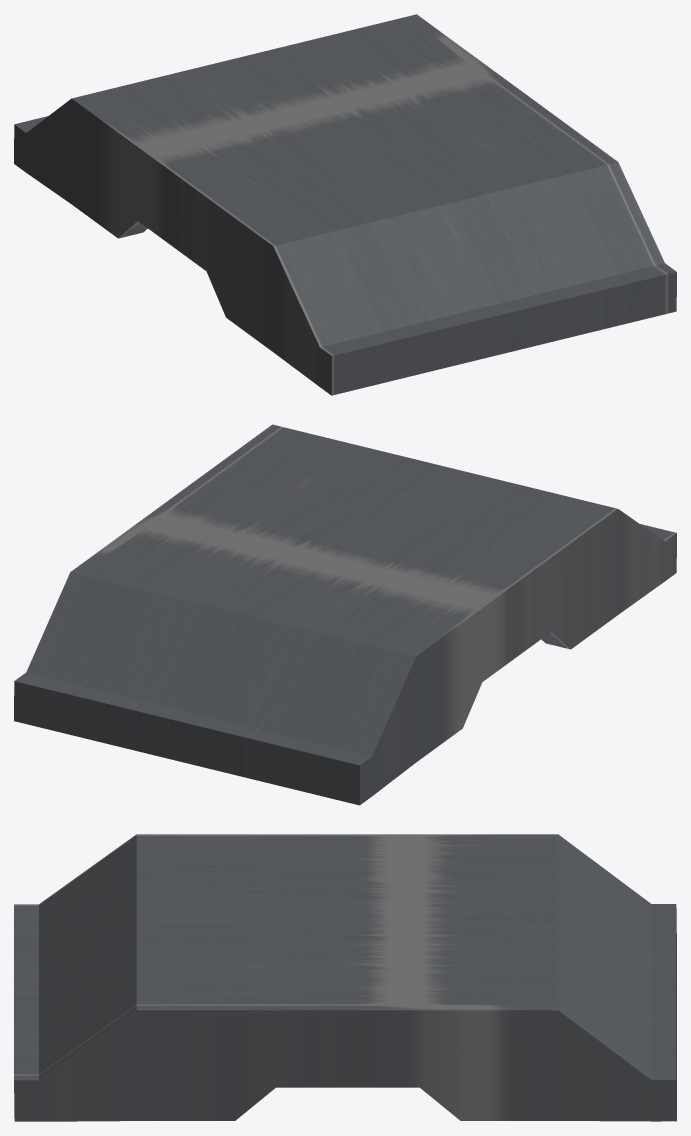
Rendered from roof_s.FBX.
3 renders of one model, top to bottom at view 1: azimuth 30°, elevation 25°; view 2: azimuth 150°, elevation 25°; view 3: azimuth 270°, elevation 25°, orthographic. The views are drawn at different scales.
Visible parts, largest first — view 1: Object023; view 2: Object023; view 3: Object023.
Boxes of the visible parts, x1,y1,x2,y2 form: Object023: (14, 14, 676, 395); Object023: (14, 424, 676, 805); Object023: (14, 834, 676, 1121).
Bounding box in the file's own units: 301 × 88.75 × 478.
